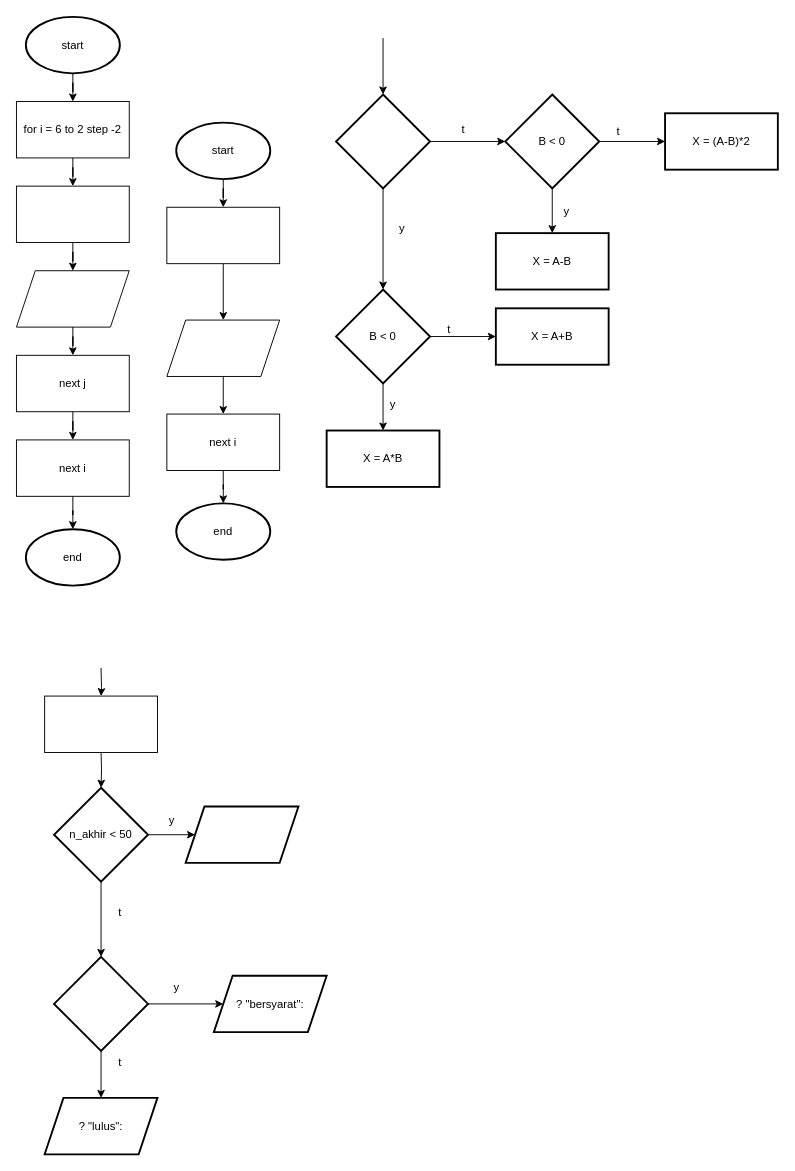
Image size: 795x1171. Some labels were removed from this diagram. Each missing label, with the centre of its shape:
? "gagal":: the point at 241,834
? "Ujian ";i:: the point at 223,347
? j; " UTS ";i:: the point at 72,298
A < 0: the point at 383,141
for i = 25 to 5 step -5: the point at 223,235
for j = 5 to 9 step 2: the point at 72,214
n_akhir < 70: the point at 101,1003
n_akhir = mid+kuis: the point at 100,723
